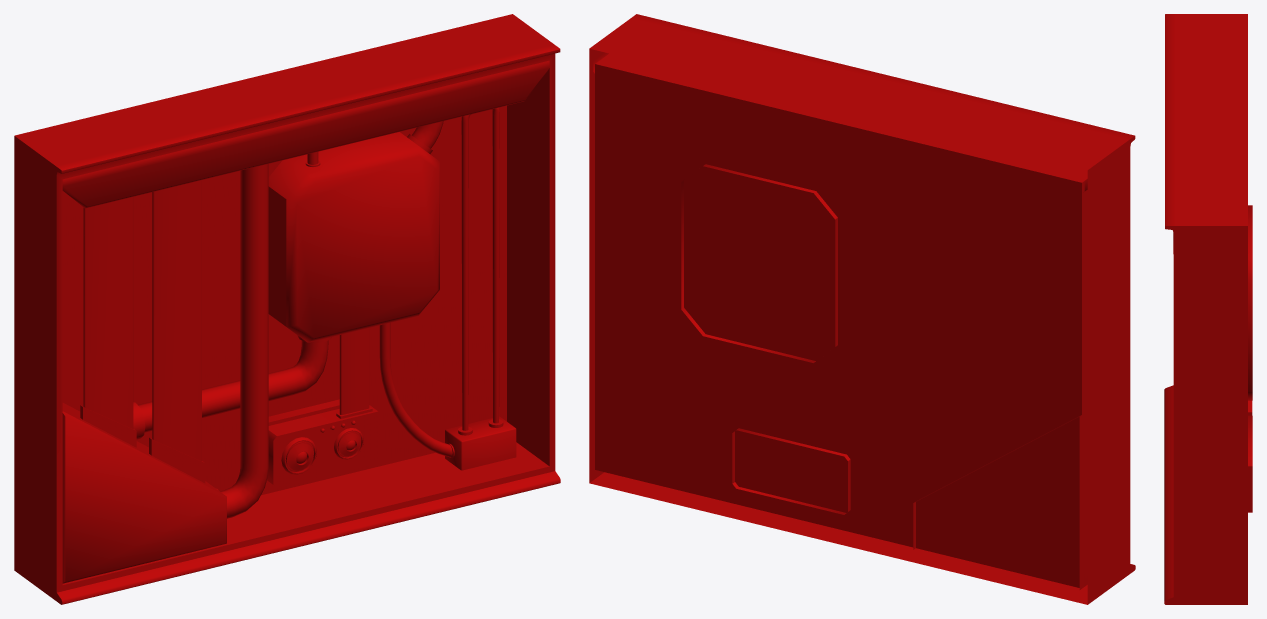
Rendered from pared3.fbx.
3 views of the same model, side by side, from view 1: azimuth 30°, elevation 25°; view 2: azimuth 150°, elevation 25°; view 3: azimuth 270°, elevation 25° (orthographic). The views are drawn at different scales.
Visible parts, largest first — view 1: 21; view 2: 21; view 3: 21.
Boxes of the visible parts, x1,y1,x2,y2 form: 21: (14, 14, 560, 604); 21: (589, 14, 1135, 604); 21: (1164, 14, 1252, 604).
Bounding box in the file's own units: 300 × 250 × 52.83.
